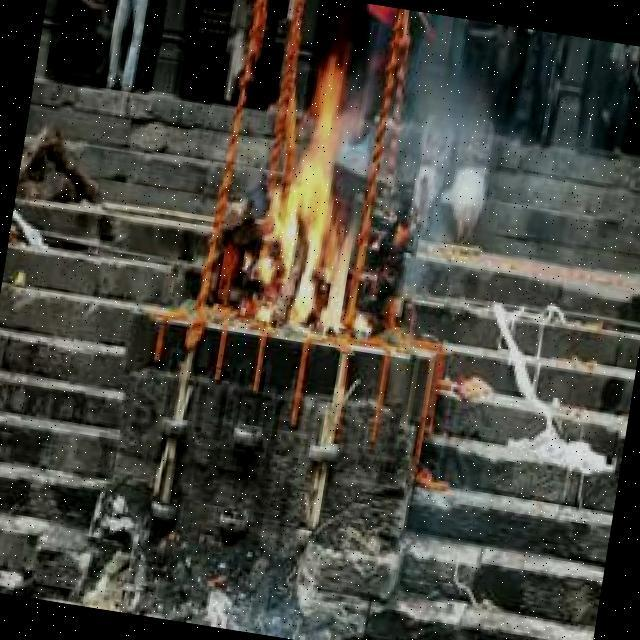Fire: (245, 52, 394, 331)
